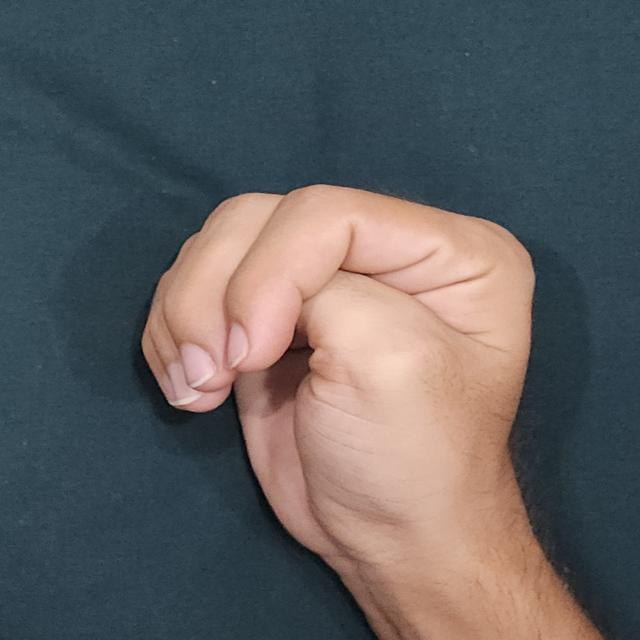د: (128, 138, 594, 597)
